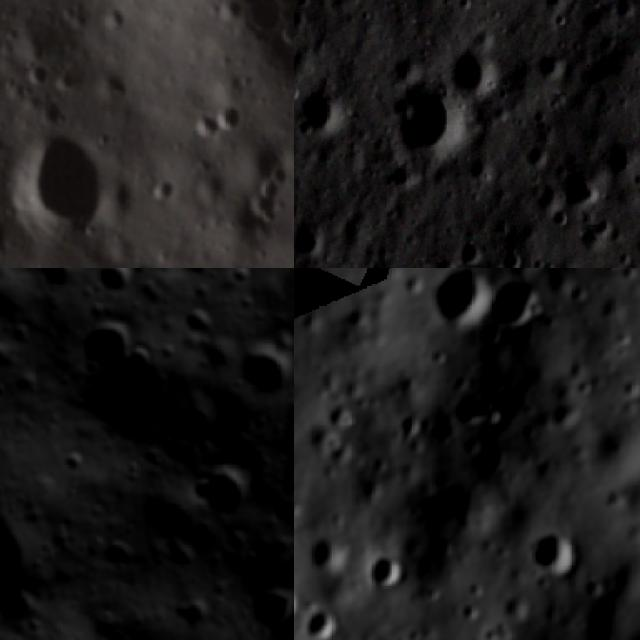crater: (11, 130, 117, 249), (72, 307, 164, 396), (379, 76, 463, 167), (193, 0, 294, 75), (228, 332, 294, 403), (190, 458, 258, 522), (431, 268, 488, 333), (445, 35, 499, 97), (526, 525, 582, 581), (294, 81, 347, 139), (488, 278, 541, 328), (552, 172, 602, 214), (454, 391, 504, 432), (176, 103, 224, 143), (210, 92, 252, 137), (294, 213, 331, 264), (310, 528, 348, 577), (300, 603, 349, 640), (597, 138, 639, 180), (368, 549, 406, 594), (534, 42, 574, 84), (474, 434, 512, 472), (452, 230, 489, 268), (0, 208, 22, 268), (86, 268, 132, 295), (472, 316, 506, 352), (294, 271, 327, 305), (489, 245, 535, 268), (24, 268, 81, 285), (115, 257, 169, 268), (534, 0, 570, 16)
